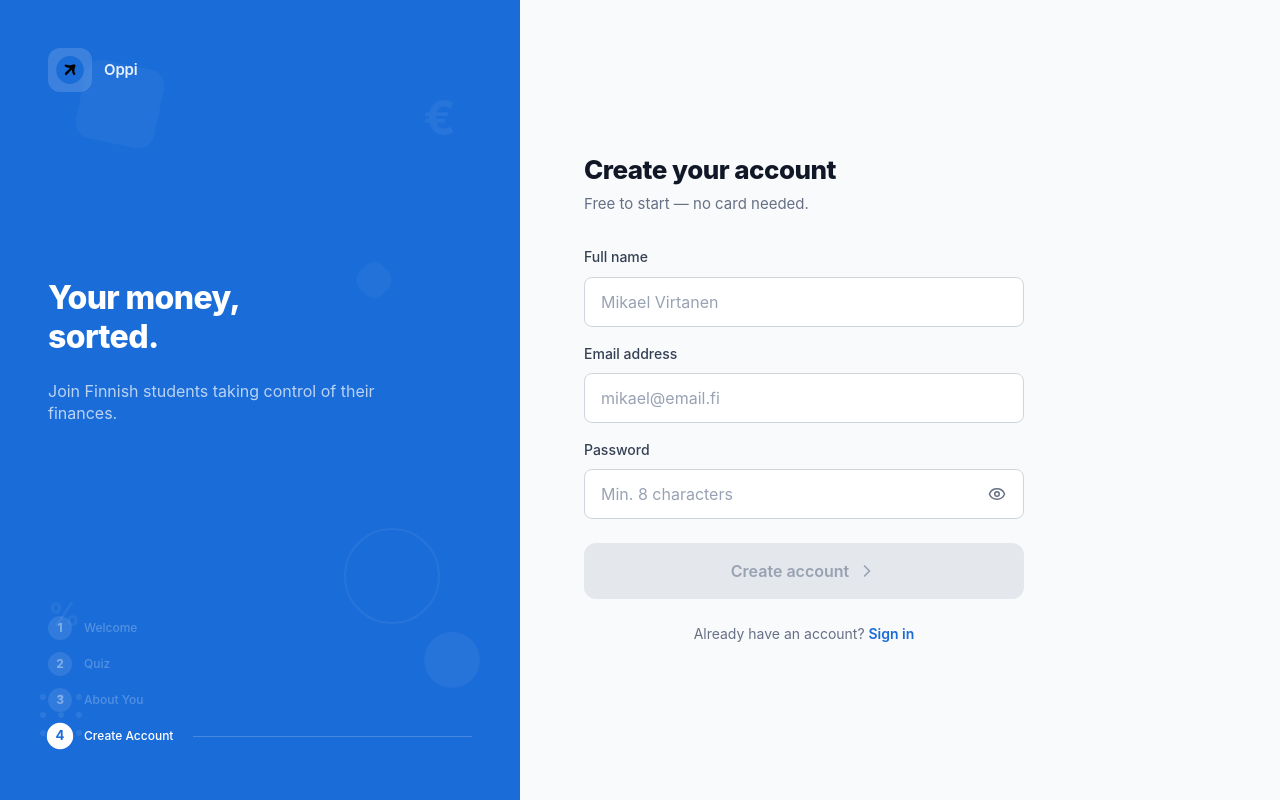
Scenario: SignupPage — form reset › clears the password error as soon as the user edits the password field
The image size is (1280, 800).
In the field labelled "Full name": (804, 302) top-left (585, 278), bottom-right (1023, 326), type "Mikael"
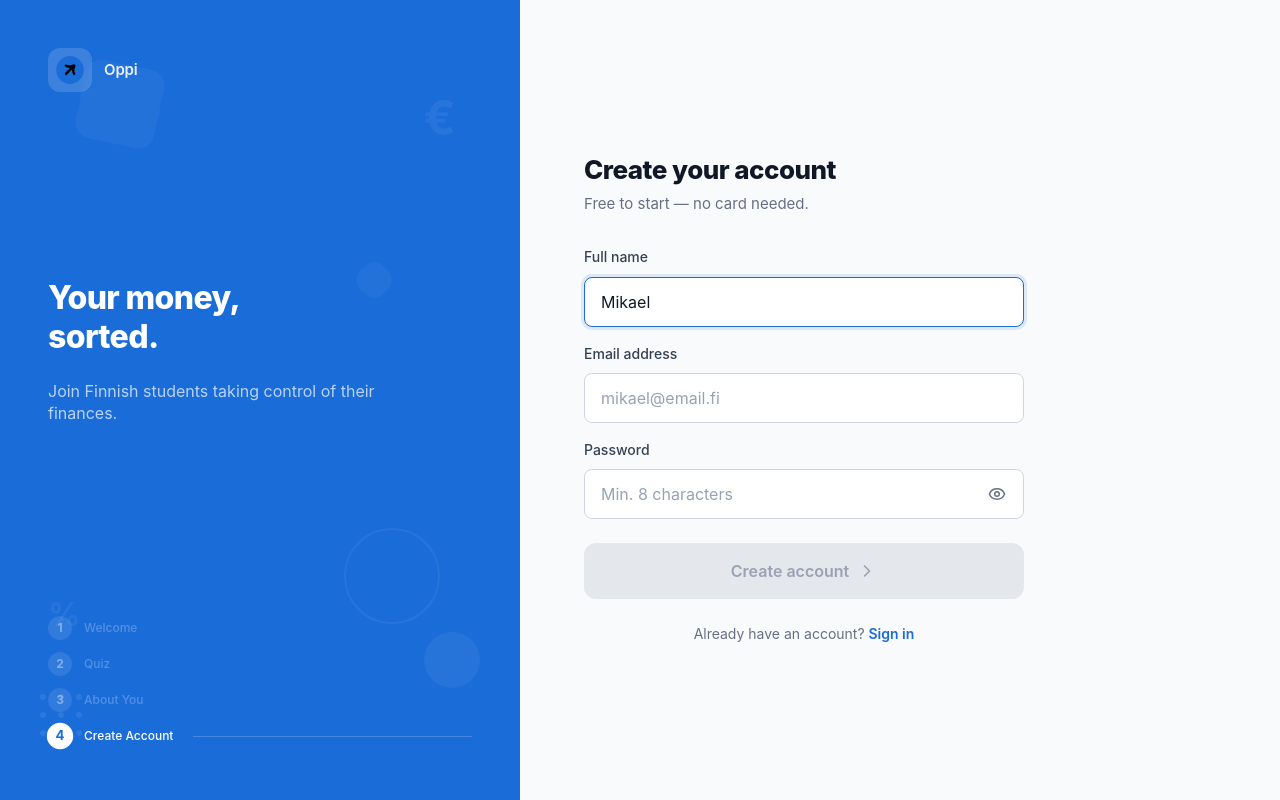
In the field labelled "Email address": (804, 398) top-left (585, 374), bottom-right (1023, 422), type "user@example.fi"
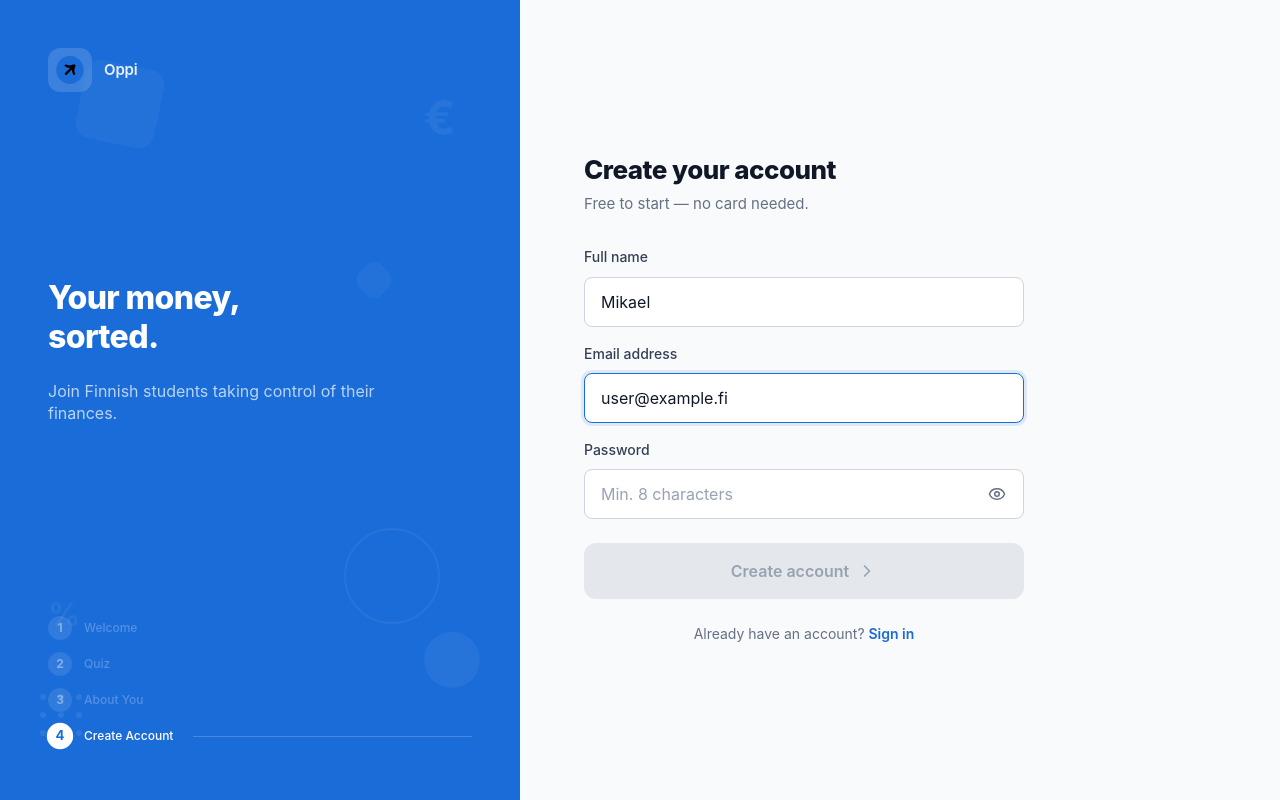
In the password field labelled "Password": (780, 494) top-left (585, 470), bottom-right (975, 518), type "short"
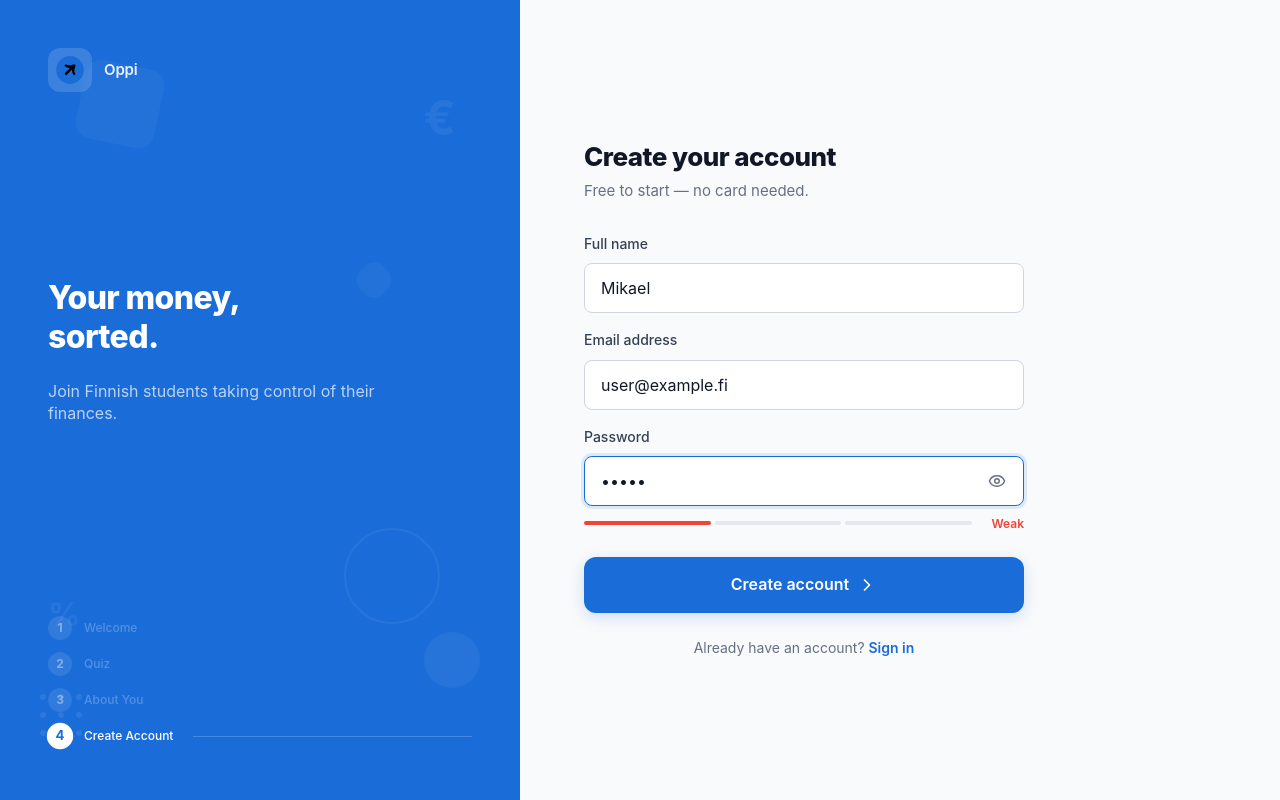
Click the button "Create account": (804, 585) top-left (584, 557), bottom-right (1024, 613)
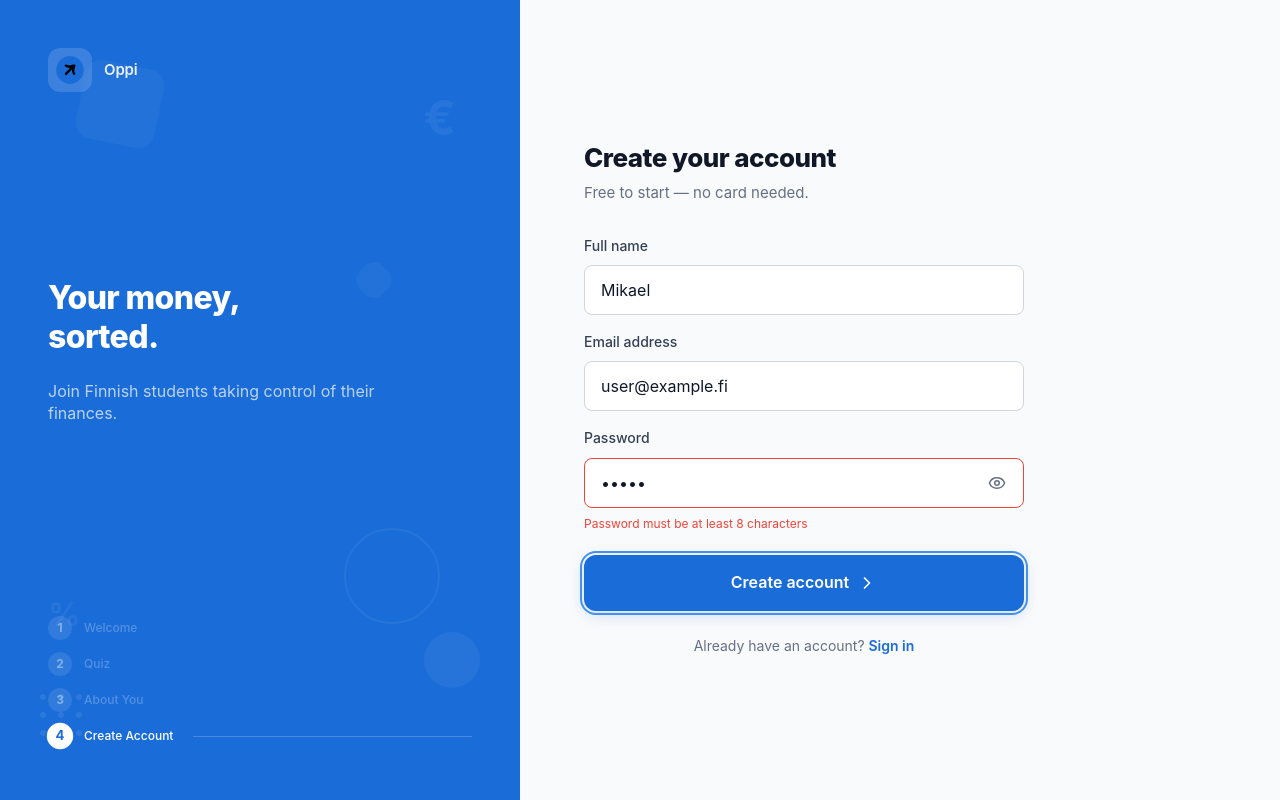
Now the text "Password must be at least 8 characters" is shown, box top-left (584, 516), bottom-right (808, 531)
In the password field labelled "Password": (780, 483) top-left (585, 459), bottom-right (975, 507), type "x"
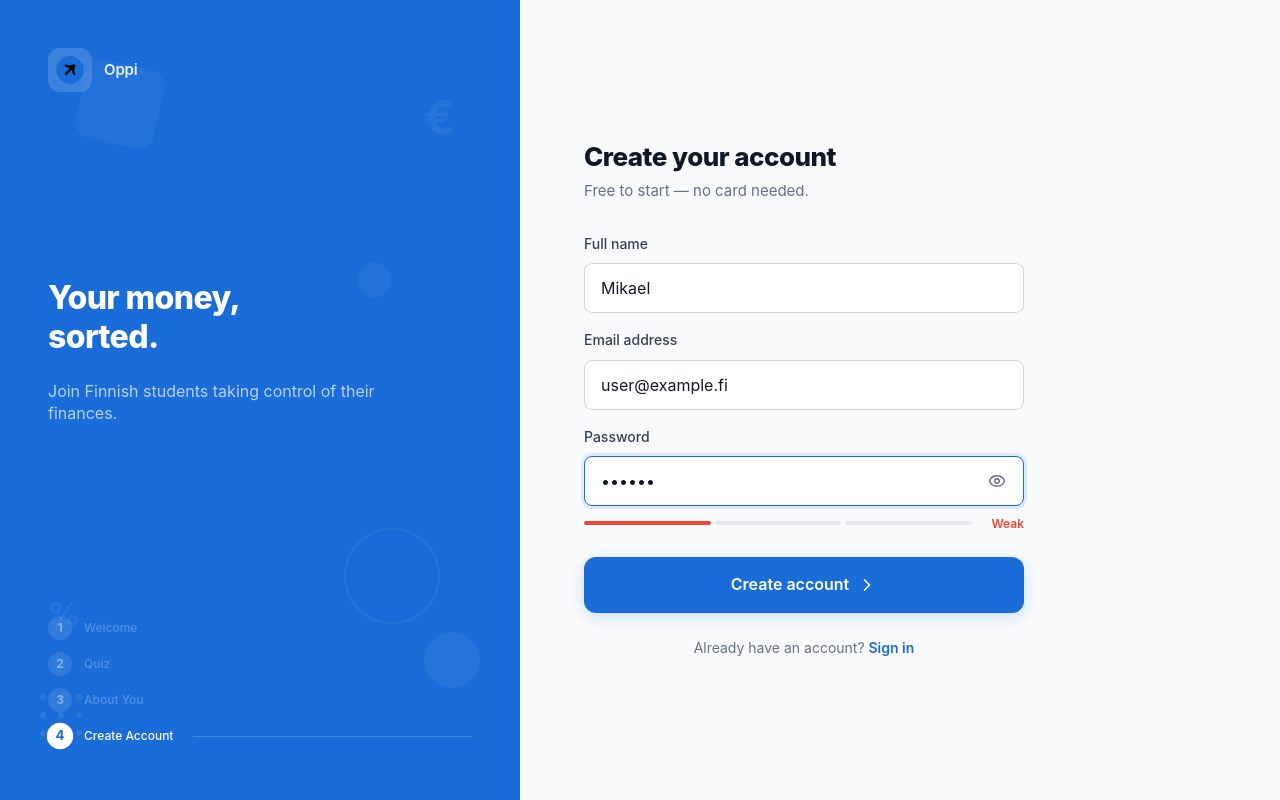
Now the text "Password must be at least 8 characters" is gone
